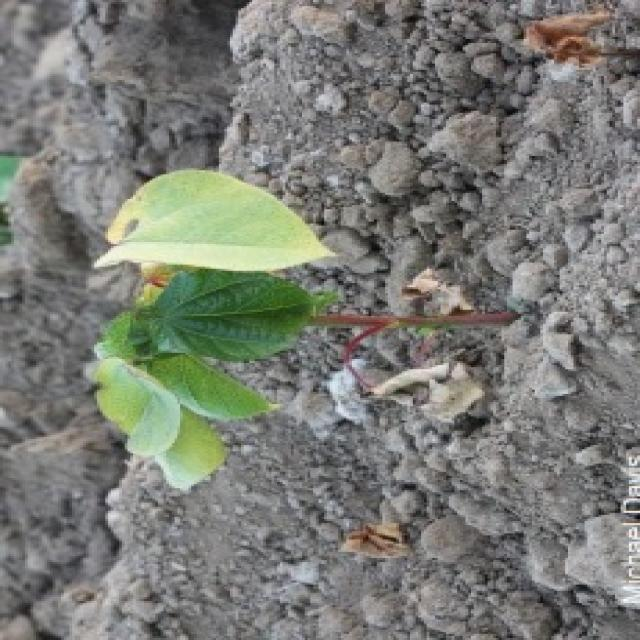Fusarium Wilt: (72, 165, 568, 508)
